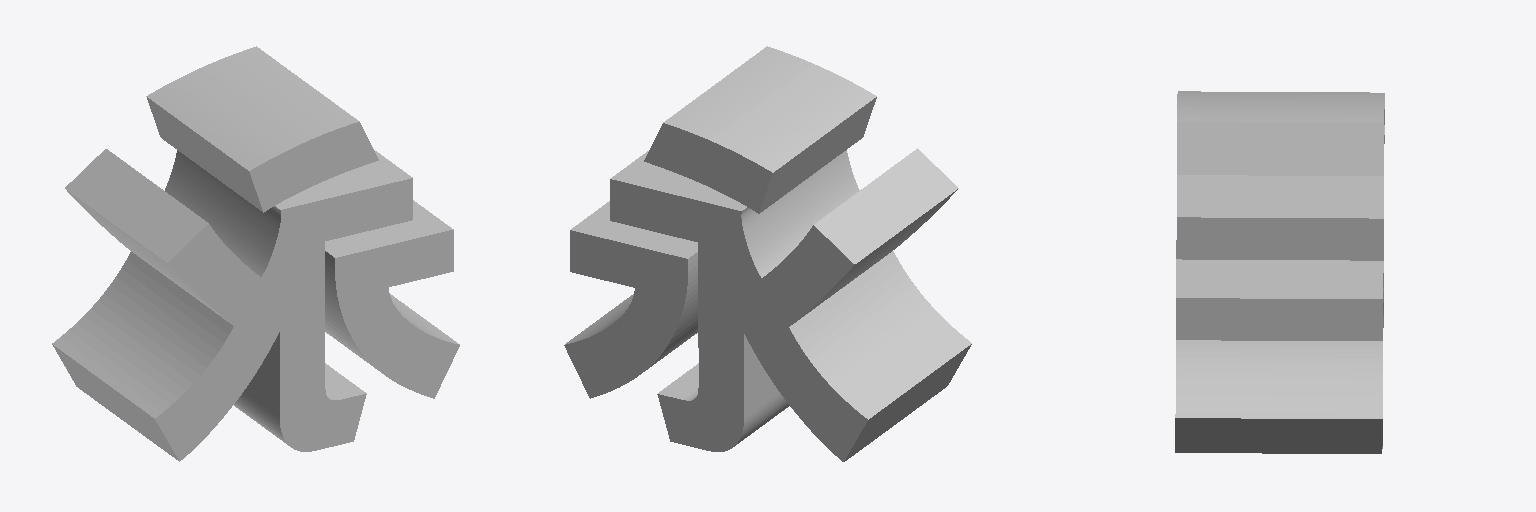
3 renders of one model, left to right at view 1: azimuth 30°, elevation 25°; view 2: azimuth 150°, elevation 25°; view 3: azimuth 270°, elevation 25°, orthographic.
Parts seen in each view (by area): view 1: オブジェクト_テキスト; view 2: オブジェクト_テキスト; view 3: オブジェクト_テキスト.
Part boxes in pixels (x1,y1,x2,y2): オブジェクト_テキスト: (52, 46, 459, 461); オブジェクト_テキスト: (564, 46, 971, 461); オブジェクト_テキスト: (1175, 91, 1384, 453).
Bounding box in the file's own units: 9.23 × 9.2 × 5.48.